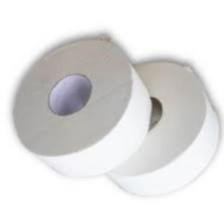tissue: (6, 32, 159, 186), (96, 52, 224, 203)
